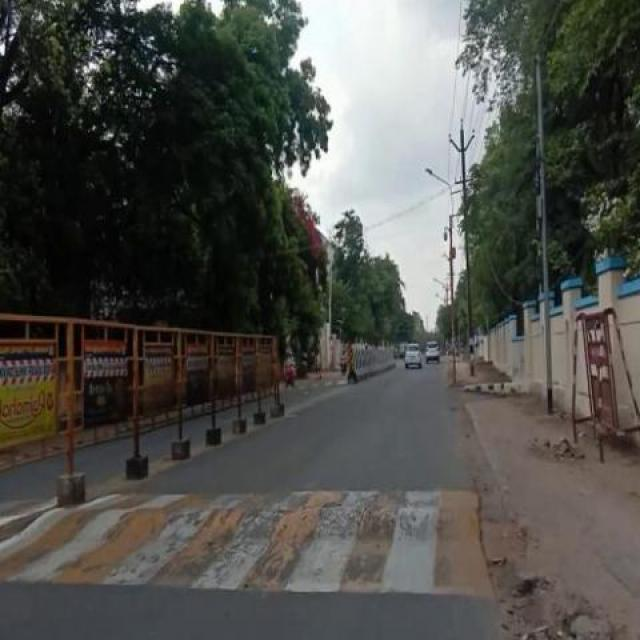Speed Bump: (1, 488, 498, 610)
